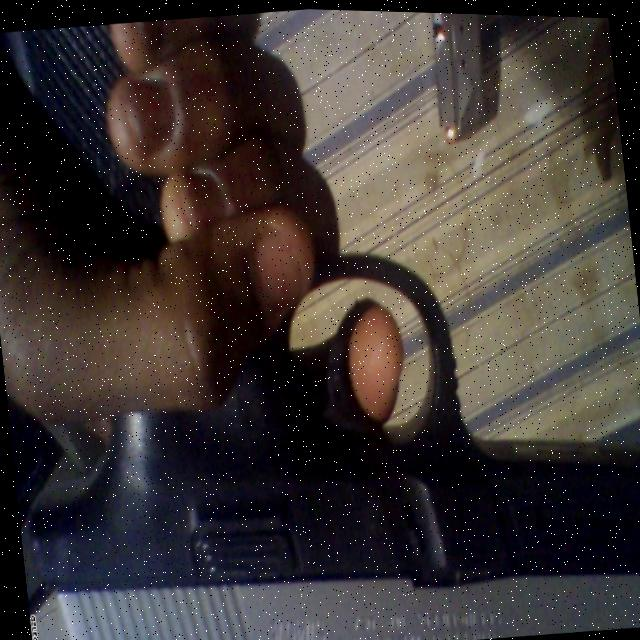pistol: (0, 213, 640, 640)
